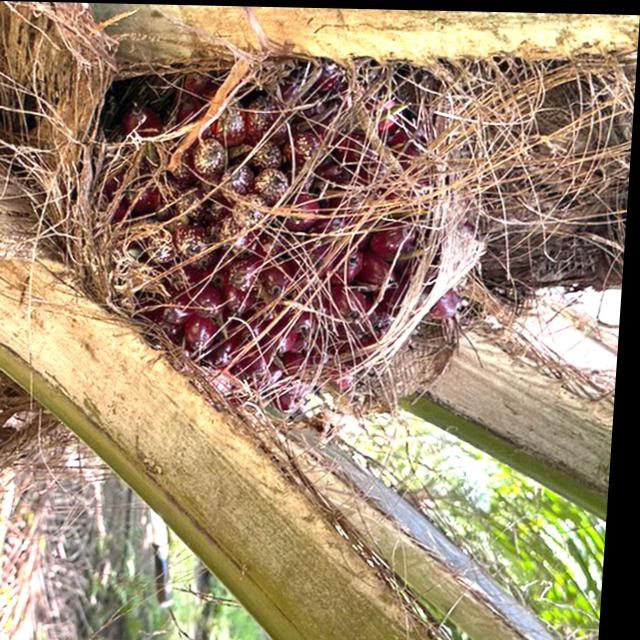ripe: (120, 25, 523, 412)
